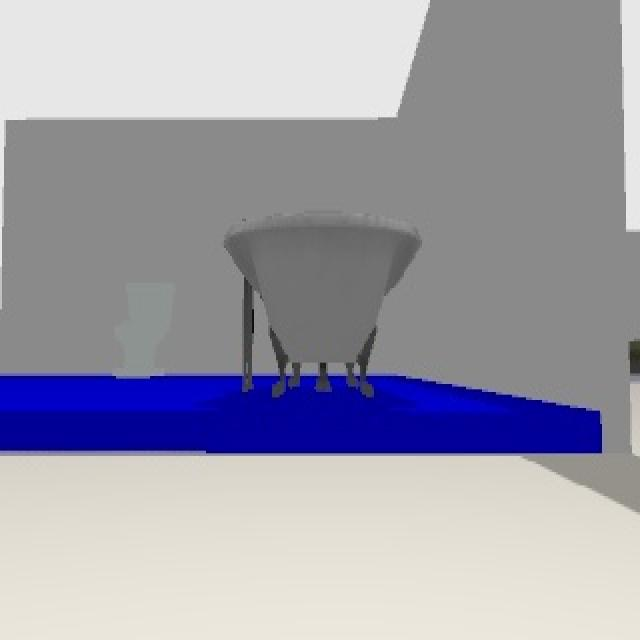bathtub: (221, 204, 422, 398)
